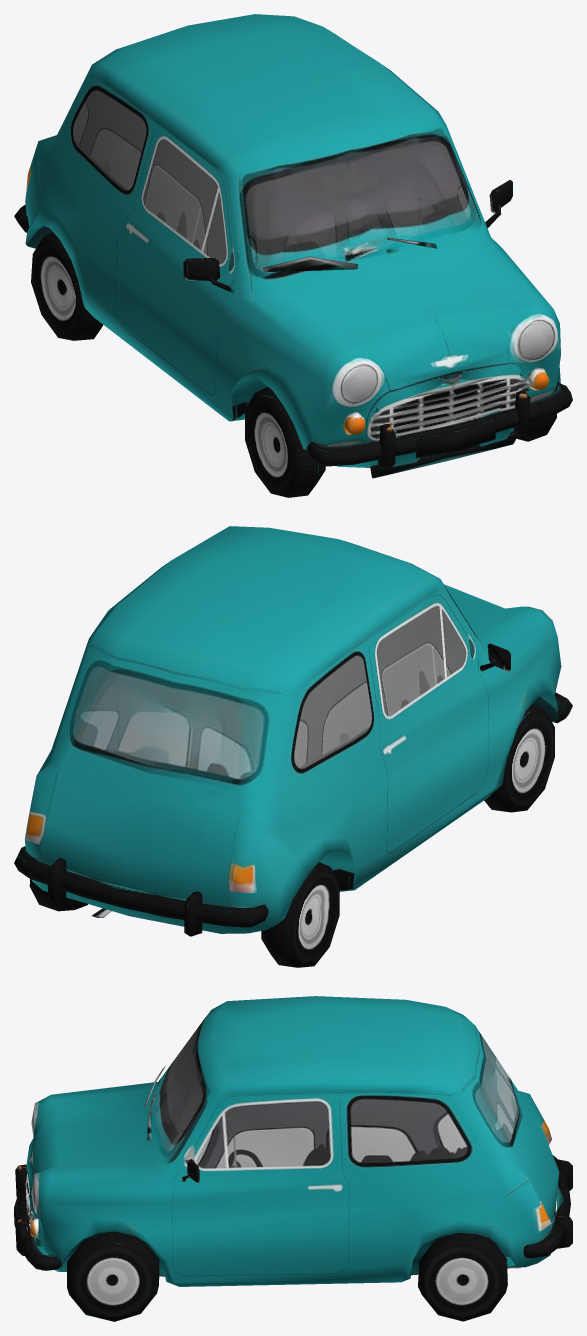
File: car.glb
3 views of the same model, one above another, from view 1: azimuth 30°, elevation 25°; view 2: azimuth 150°, elevation 25°; view 3: azimuth 270°, elevation 25° (orthographic). The views are drawn at different scales.
Bounding box in the file's own units: 2.12 × 1.82 × 3.8.
Materials: 1 (1 with a texture image).
